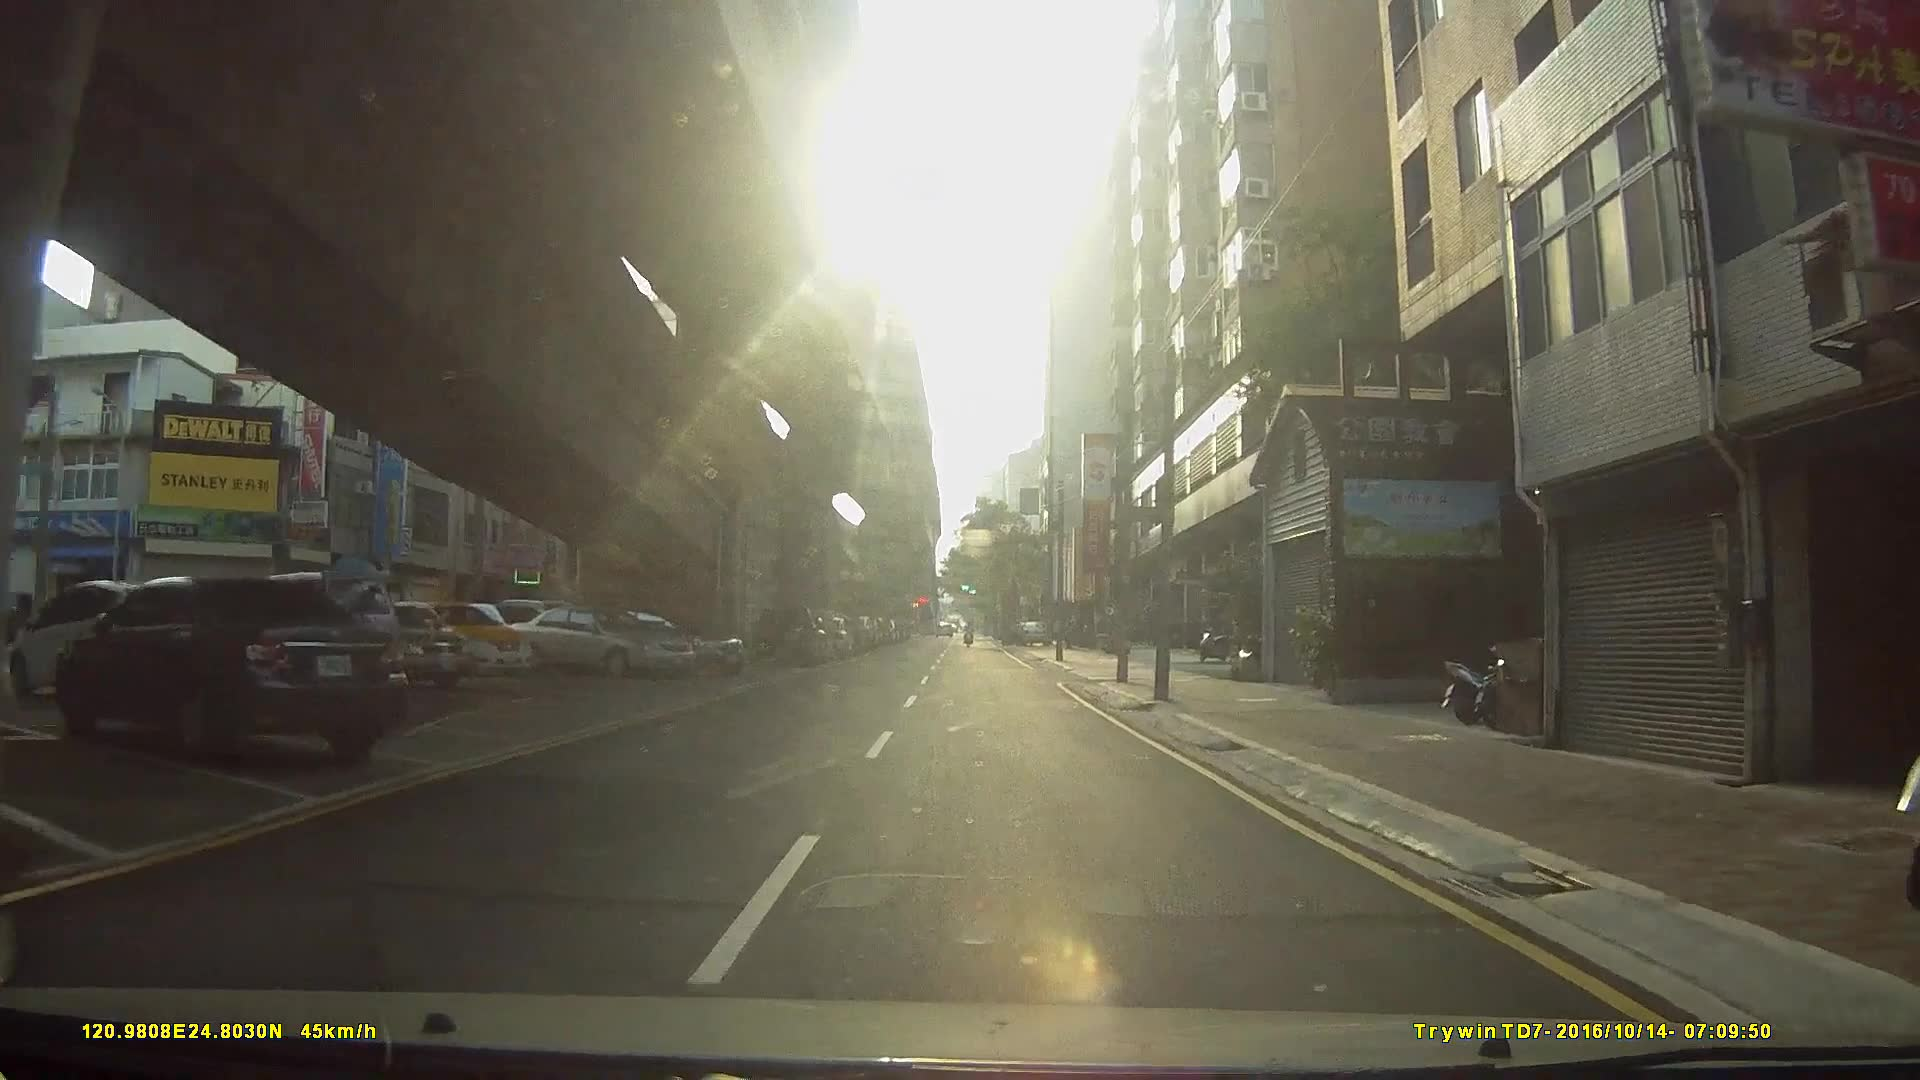vehicle: (53, 571, 407, 765), (7, 578, 190, 709), (299, 599, 469, 692), (498, 603, 694, 676), (566, 605, 745, 680), (385, 599, 530, 675), (750, 600, 829, 666)
